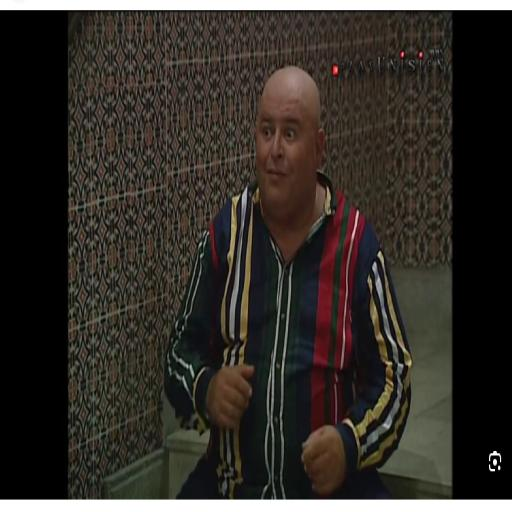sboui: (256, 67, 325, 224)
